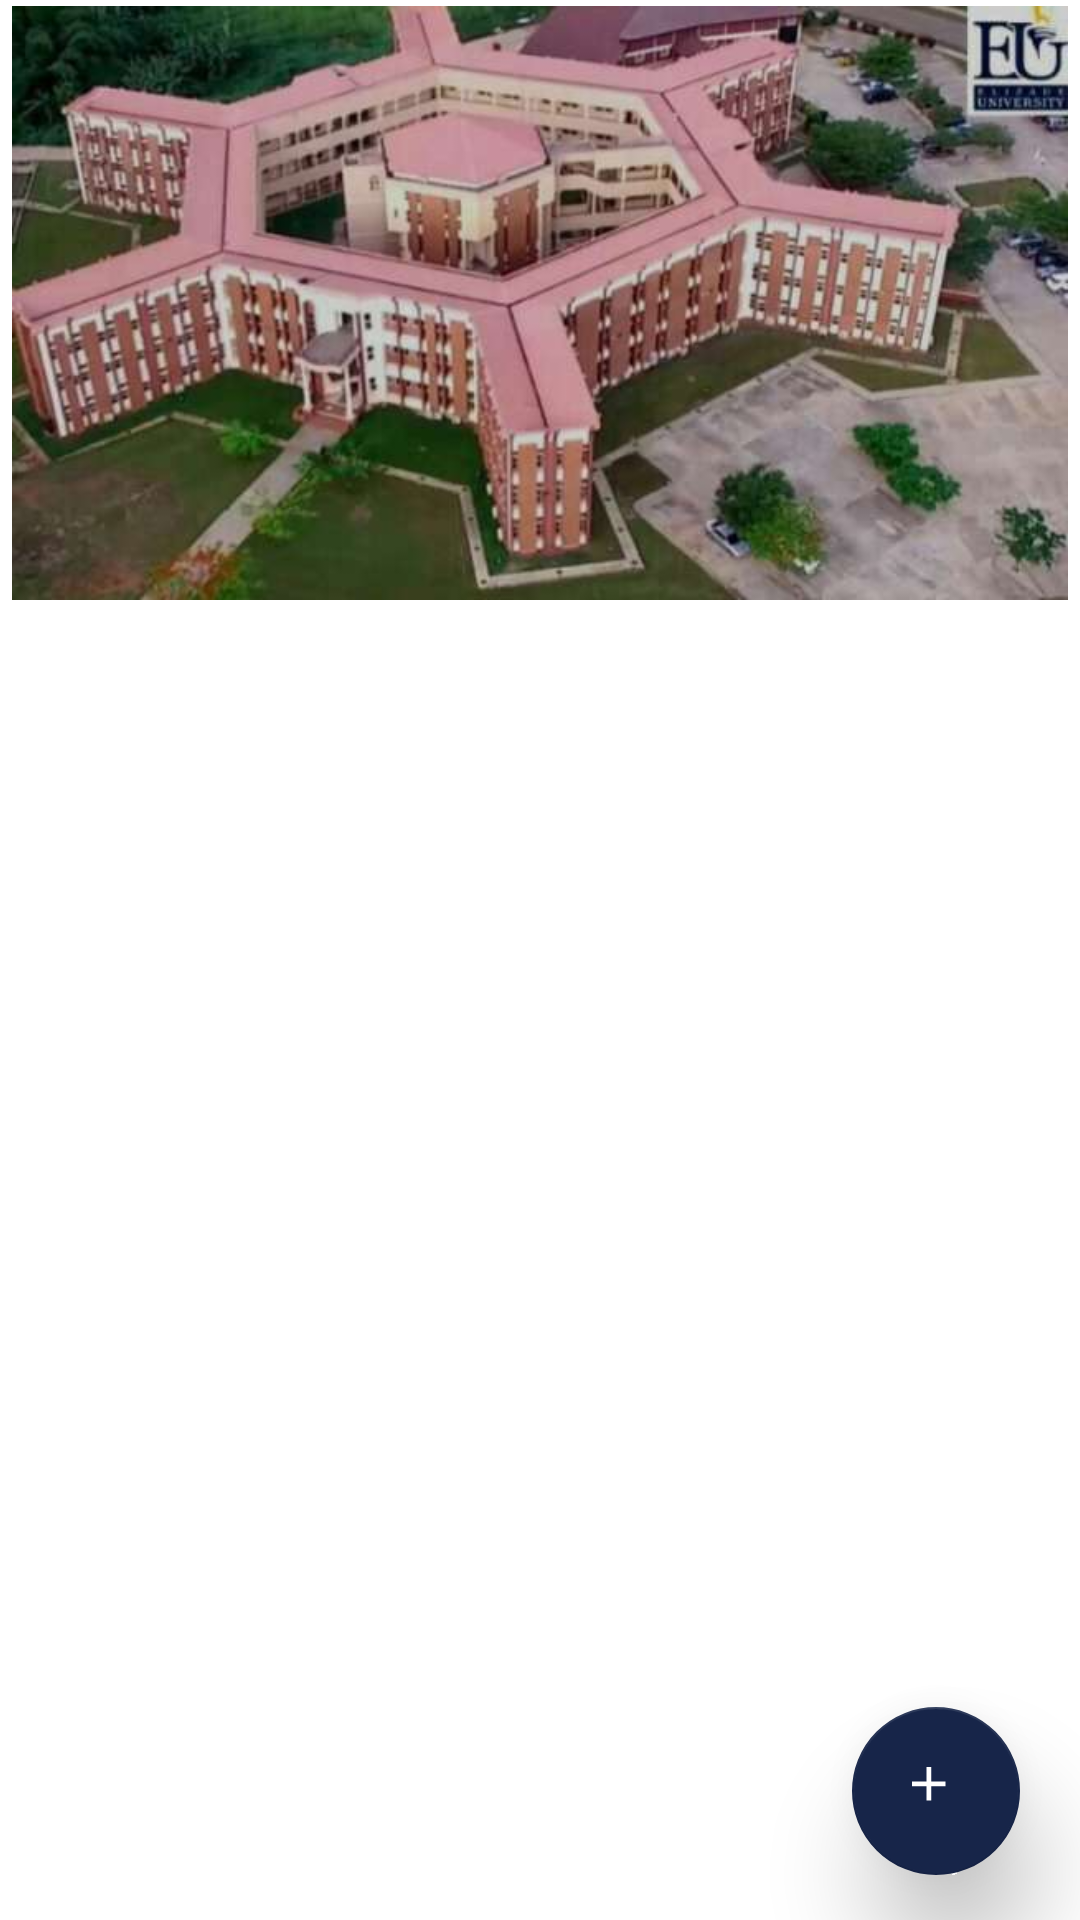

Where icons sit on this 1080px x 1920px app screen, as (x1, y1, x2, y2):
add: (852, 1707, 1020, 1875)
